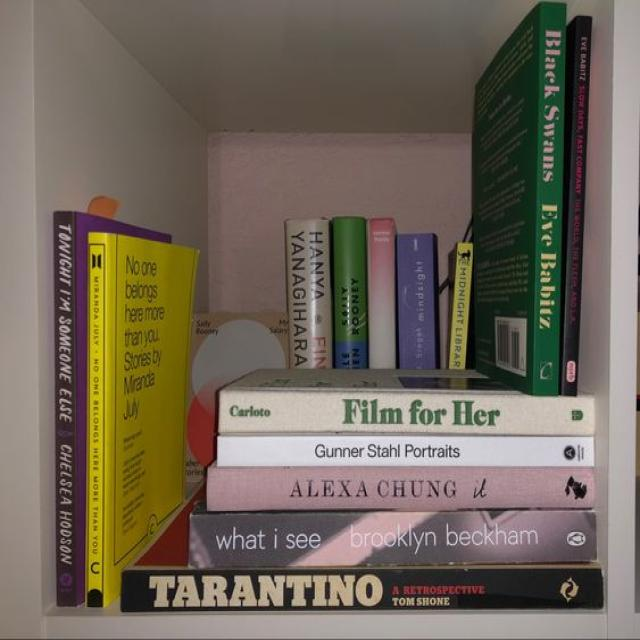book: (189, 510, 596, 569), (119, 565, 603, 608), (207, 466, 595, 511), (222, 390, 595, 436), (49, 208, 87, 606), (218, 436, 593, 466), (87, 235, 113, 608), (288, 220, 330, 367), (397, 233, 438, 367), (331, 216, 367, 367), (368, 217, 394, 367), (448, 241, 472, 369)
